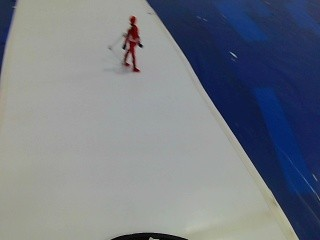pedestrian: (114, 12, 147, 71)
